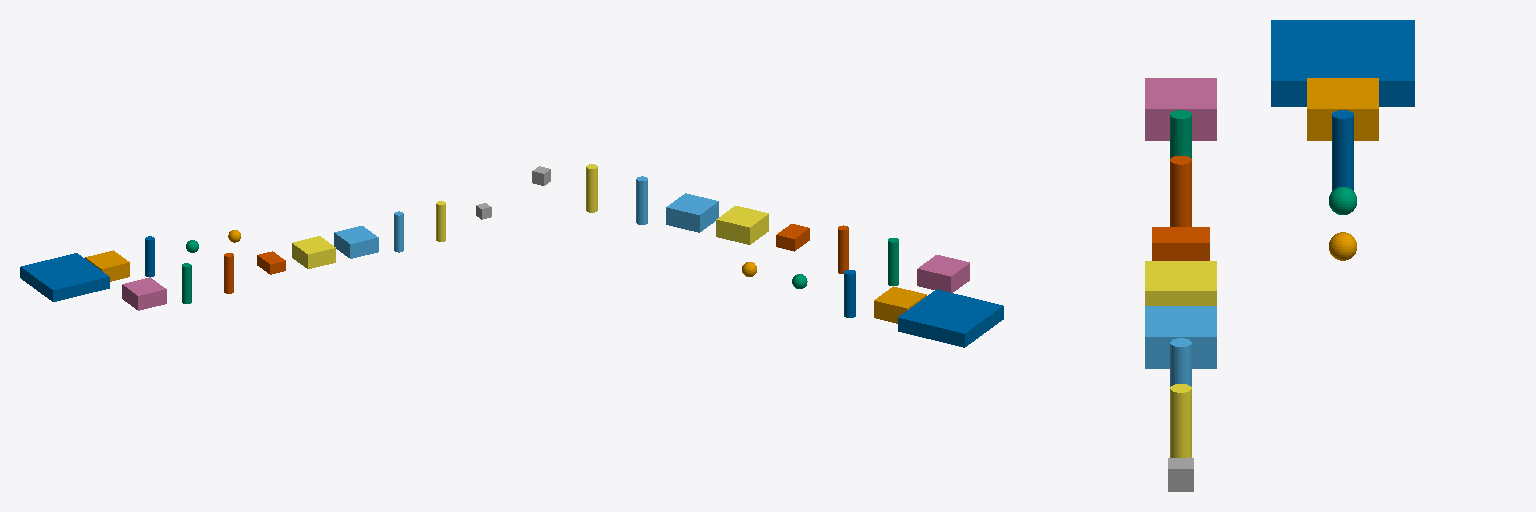
robot.urdf — manipulating_device_for_industrial_robots:
<?xml version="1.0" ?>
<robot name="manipulating_device_for_industrial_robots">
  <link name="articulated_gripping_arm">
    <visual>
      <geometry>
        <box size="0.04 0.04 0.02"/>
      </geometry>
    </visual>
  </link>
  <link name="common_member">
    <visual>
      <geometry>
        <cylinder radius="0.006" length="0.05"/>
      </geometry>
    </visual>
  </link>
  <link name="first_drive_unit">
    <visual>
      <geometry>
        <sphere radius="0.008"/>
      </geometry>
    </visual>
  </link>
  <link name="first_lever_parallelogram">
    <visual>
      <geometry>
        <box size="0.04 0.04 0.02"/>
      </geometry>
    </visual>
  </link>
  <link name="first_member">
    <visual>
      <geometry>
        <cylinder radius="0.006" length="0.05"/>
      </geometry>
    </visual>
  </link>
  <link name="gripper_or_tool">
    <visual>
      <geometry>
        <box size="0.022 0.032 0.014"/>
      </geometry>
    </visual>
  </link>
  <link name="lever_system">
    <visual>
      <geometry>
        <box size="0.04 0.04 0.02"/>
      </geometry>
    </visual>
  </link>
  <link name="pivot_axis">
    <visual>
      <geometry>
        <box size="0.014 0.014 0.014"/>
      </geometry>
    </visual>
  </link>
  <link name="second_drive_unit">
    <visual>
      <geometry>
        <sphere radius="0.008"/>
      </geometry>
    </visual>
  </link>
  <link name="second_lever_parallelogram">
    <visual>
      <geometry>
        <box size="0.04 0.04 0.02"/>
      </geometry>
    </visual>
  </link>
  <link name="second_member">
    <visual>
      <geometry>
        <cylinder radius="0.006" length="0.05"/>
      </geometry>
    </visual>
  </link>
  <link name="second_parallel_member">
    <visual>
      <geometry>
        <cylinder radius="0.006" length="0.05"/>
      </geometry>
    </visual>
  </link>
  <link name="support">
    <visual>
      <geometry>
        <box size="0.08 0.08 0.016"/>
      </geometry>
    </visual>
  </link>
  <link name="third_member">
    <visual>
      <geometry>
        <cylinder radius="0.006" length="0.05"/>
      </geometry>
    </visual>
  </link>
  <joint name="_attach_first_member_to_pivot_axis" type="fixed">
    <parent link="first_member"/>
    <child link="pivot_axis"/>
    <origin xyz="0.4200 -0.0900 0.0000" rpy="0 0 0"/>
  </joint>
  <joint name="_attach_pivot_axis_to_second_parallel_member" type="fixed">
    <parent link="pivot_axis"/>
    <child link="second_parallel_member"/>
    <origin xyz="-0.0600 0.0000 0.0000" rpy="0 0 0"/>
  </joint>
  <joint name="_attach_support_to_articulated_gripping_arm" type="fixed">
    <parent link="support"/>
    <child link="articulated_gripping_arm"/>
    <origin xyz="0.0600 0.0000 0.0000" rpy="0 0 0"/>
  </joint>
  <joint name="_attach_support_to_common_member" type="fixed">
    <parent link="support"/>
    <child link="common_member"/>
    <origin xyz="0.4200 -0.0900 0.0000" rpy="0 0 0"/>
  </joint>
  <joint name="_attach_support_to_first_drive_unit" type="fixed">
    <parent link="support"/>
    <child link="first_drive_unit"/>
    <origin xyz="0.1800 0.0000 0.0000" rpy="0 0 0"/>
  </joint>
  <joint name="_attach_support_to_first_lever_parallelogram" type="fixed">
    <parent link="support"/>
    <child link="first_lever_parallelogram"/>
    <origin xyz="0.3000 -0.0900 0.0000" rpy="0 0 0"/>
  </joint>
  <joint name="_attach_support_to_first_member" type="fixed">
    <parent link="support"/>
    <child link="first_member"/>
    <origin xyz="0.1200 0.0000 0.0000" rpy="0 0 0"/>
  </joint>
  <joint name="_attach_support_to_gripper_or_tool" type="fixed">
    <parent link="support"/>
    <child link="gripper_or_tool"/>
    <origin xyz="0.2400 -0.0900 0.0000" rpy="0 0 0"/>
  </joint>
  <joint name="_attach_support_to_lever_system" type="fixed">
    <parent link="support"/>
    <child link="lever_system"/>
    <origin xyz="0.0600 -0.0900 0.0000" rpy="0 0 0"/>
  </joint>
  <joint name="_attach_support_to_second_drive_unit" type="fixed">
    <parent link="support"/>
    <child link="second_drive_unit"/>
    <origin xyz="0.2400 0.0000 0.0000" rpy="0 0 0"/>
  </joint>
  <joint name="_attach_support_to_second_lever_parallelogram" type="fixed">
    <parent link="support"/>
    <child link="second_lever_parallelogram"/>
    <origin xyz="0.3600 -0.0900 0.0000" rpy="0 0 0"/>
  </joint>
  <joint name="_attach_support_to_second_member" type="fixed">
    <parent link="support"/>
    <child link="second_member"/>
    <origin xyz="0.1200 -0.0900 0.0000" rpy="0 0 0"/>
  </joint>
  <joint name="_attach_support_to_third_member" type="fixed">
    <parent link="support"/>
    <child link="third_member"/>
    <origin xyz="0.1800 -0.0900 0.0000" rpy="0 0 0"/>
  </joint>
</robot>

--- What the picture shows (computed from the rendered views, not written in the file) ---
Views: 3 orthographic renders of the robot side by side, from view 1: azimuth 30°, elevation 25°; view 2: azimuth 150°, elevation 25°; view 3: azimuth 270°, elevation 25°.
Robot: manipulating_device_for_industrial_robots — 14 links, 13 joints (13 fixed); root link support; default pose: every joint at zero.
Visible links, largest first — view 1: support, lever_system, second_lever_parallelogram, first_lever_parallelogram, articulated_gripping_arm; view 2: support, first_lever_parallelogram, second_lever_parallelogram, lever_system, articulated_gripping_arm, gripper_or_tool, second_parallel_member, common_member, first_member; view 3: support, second_lever_parallelogram, articulated_gripping_arm, lever_system, first_lever_parallelogram, gripper_or_tool, first_member, second_parallel_member, third_member, second_member, common_member, pivot_axis (+2 smaller).
Link boxes in pixels (bbox=[...]): support: bbox=[20, 253, 109, 301]; lever_system: bbox=[122, 277, 166, 310]; second_lever_parallelogram: bbox=[334, 226, 378, 258]; first_lever_parallelogram: bbox=[292, 236, 335, 268]; articulated_gripping_arm: bbox=[85, 250, 129, 281]; support: bbox=[898, 289, 1003, 347]; first_lever_parallelogram: bbox=[716, 206, 768, 244]; second_lever_parallelogram: bbox=[666, 193, 718, 232]; lever_system: bbox=[917, 255, 969, 292]; articulated_gripping_arm: bbox=[874, 286, 926, 323]; gripper_or_tool: bbox=[776, 224, 809, 251]; second_parallel_member: bbox=[586, 164, 597, 212]; common_member: bbox=[636, 176, 647, 224]; first_member: bbox=[844, 270, 855, 317]; support: bbox=[1271, 20, 1414, 106]; second_lever_parallelogram: bbox=[1145, 306, 1216, 368]; articulated_gripping_arm: bbox=[1307, 78, 1378, 140]; lever_system: bbox=[1145, 78, 1216, 140]; first_lever_parallelogram: bbox=[1145, 261, 1216, 305]; gripper_or_tool: bbox=[1152, 227, 1209, 260]; first_member: bbox=[1332, 110, 1353, 190]; second_parallel_member: bbox=[1170, 384, 1191, 457]; third_member: bbox=[1170, 156, 1191, 226]; second_member: bbox=[1170, 110, 1191, 158]; common_member: bbox=[1170, 338, 1191, 386]; pivot_axis: bbox=[1168, 458, 1193, 491].
Size in the robot's own frame: 0.587 by 0.15 by 0.05 metres.
Geometry: primitives only (box / cylinder / sphere), no mesh files.
